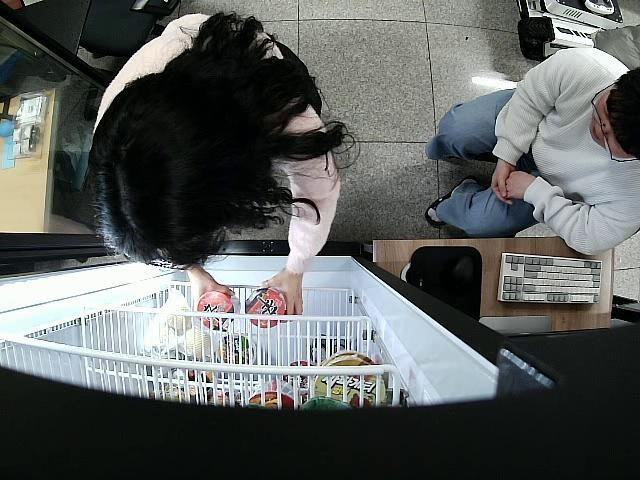02_shinRamen_S: (246, 289, 286, 330), (196, 295, 239, 332)
